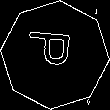P_E: (28, 34, 82, 76)
